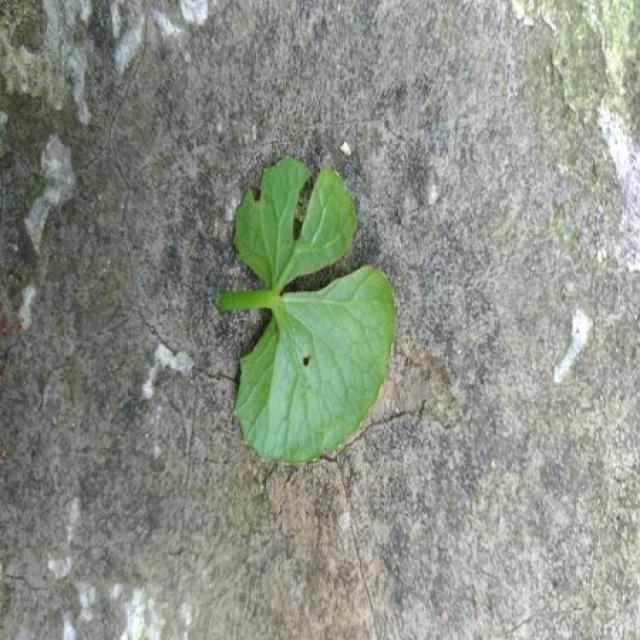defectedbhrami: (217, 158, 395, 462)
